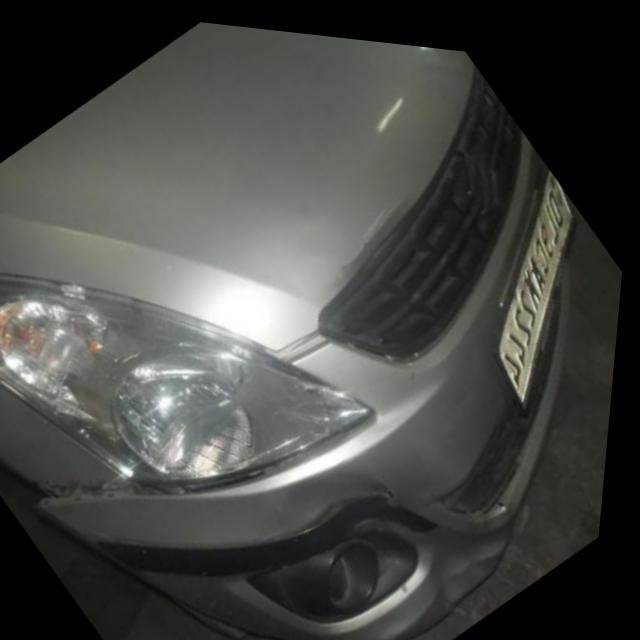crack: (281, 458, 522, 625)
dislocated part: (39, 437, 344, 501)
